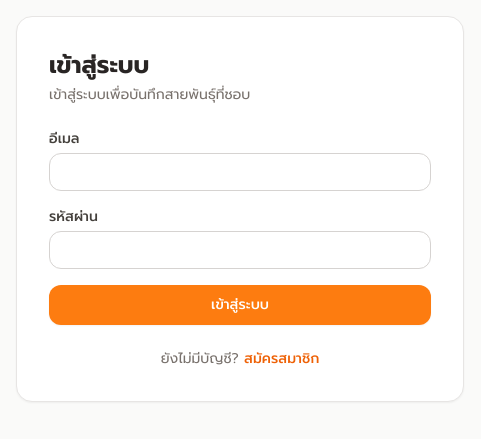
Scenario: หน้า Login › อีเมลผิดรูปแบบ → แสดงข้อความเตือน
The width and height of the screenshot is (481, 439).
Type "not-an-email" into the field labelled "อีเมล".
click(240, 172); type("not-an-email")  # box 49,153 -> 431,191
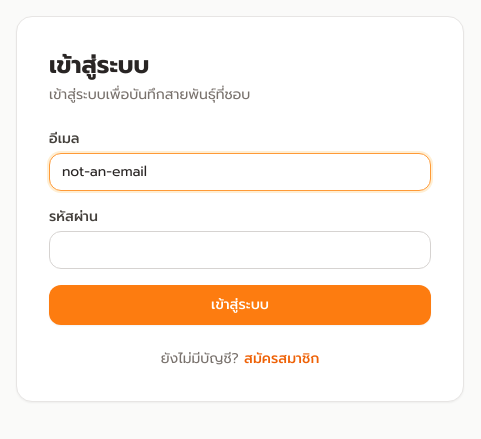
Type "secret123" into the password field labelled "รหัสผ่าน".
click(240, 250); type("secret123")  # box 49,231 -> 431,269
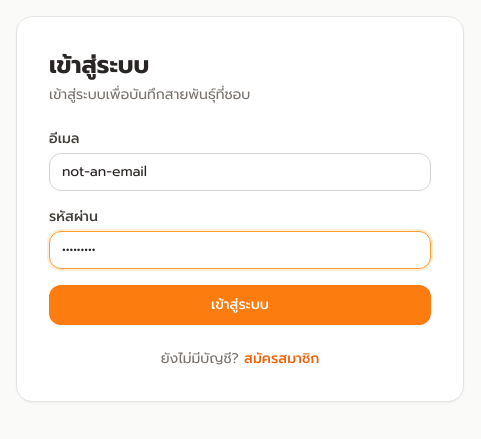
Click the button "เข้าสู่ระบบ".
click(240, 305)  # box 49,285 -> 431,325
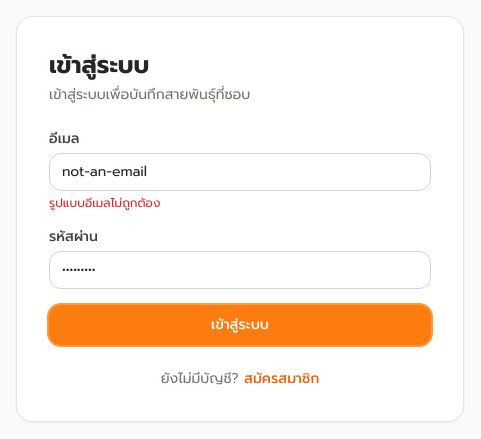
Expected: the text "รูปแบบอีเมลไม่ถูกต้อง" is shown, 49,194 -> 160,212
